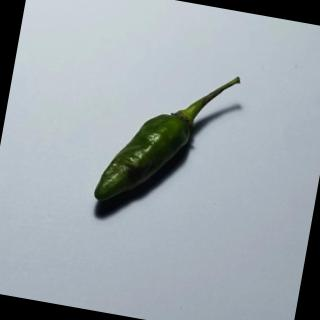Cabai Hijau: (88, 55, 247, 235)
